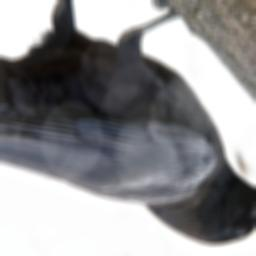Crow: (0, 0, 256, 245)
